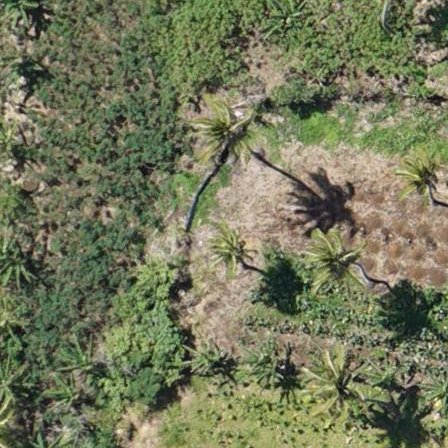palm_tree: (193, 103, 262, 164), (304, 229, 367, 287), (197, 225, 255, 286), (305, 355, 365, 413), (392, 154, 444, 200)
